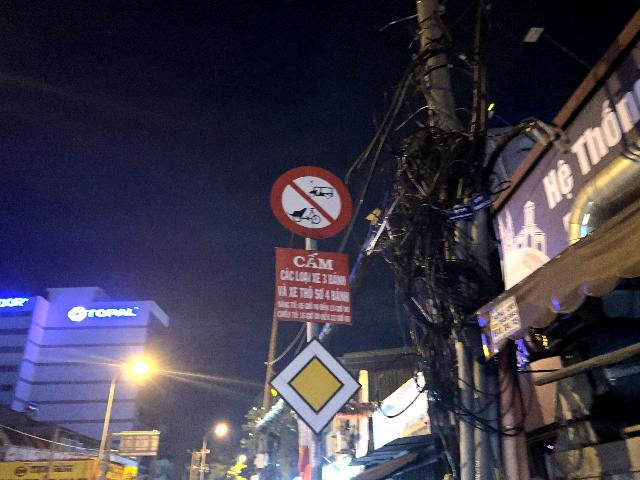bat-dau-duong-uu-tien: (268, 336, 362, 436)
cam-xe-3-banh-xe-tho-so-4-banh: (270, 165, 353, 239)
